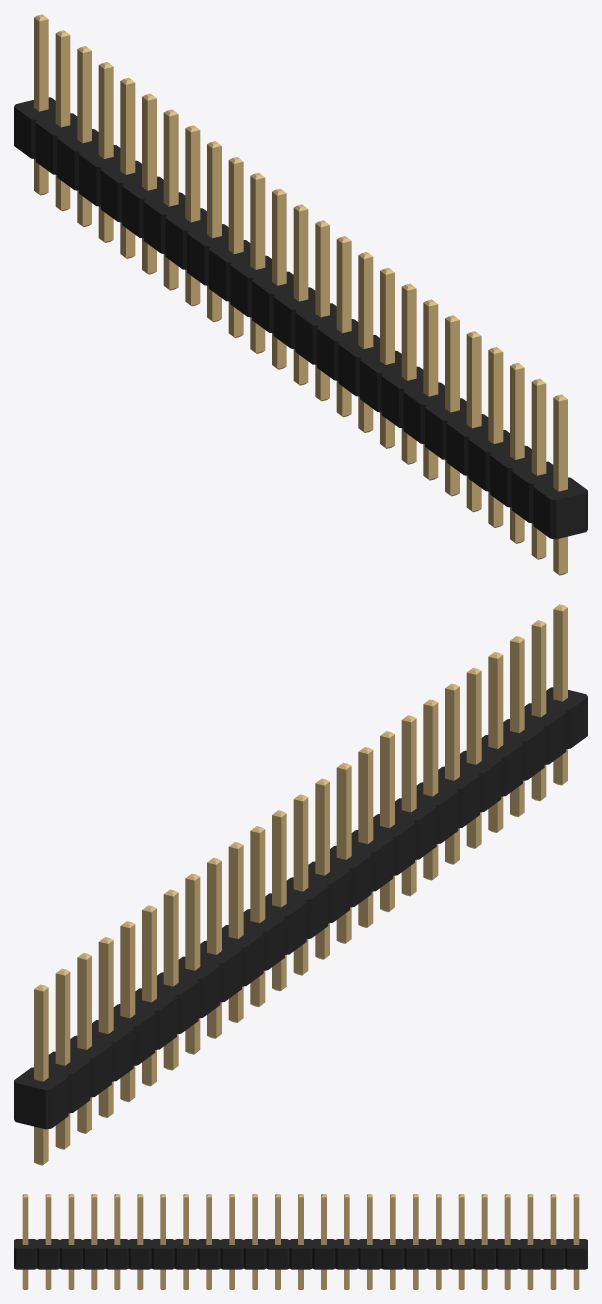
The model's file is kc-pinheader_1x25_p2.54mm_vertical.glb.
3 views of the same model, one above another, from view 1: azimuth 30°, elevation 25°; view 2: azimuth 150°, elevation 25°; view 3: azimuth 270°, elevation 25° (orthographic). The views are drawn at different scales.
Visible parts, largest first — view 1: 0.75_0.5_0.25_0.9, 0_0_0_0; view 2: 0.75_0.5_0.25_0.9, 0_0_0_0; view 3: 0_0_0_0, 0.75_0.5_0.25_0.9.
Part boxes in pixels (x1=…): 0.75_0.5_0.25_0.9: x1=34, y1=14, x2=567, y2=575; 0_0_0_0: x1=14, y1=97, x2=587, y2=539; 0.75_0.5_0.25_0.9: x1=34, y1=604, x2=567, y2=1165; 0_0_0_0: x1=14, y1=687, x2=587, y2=1129; 0_0_0_0: x1=14, y1=1239, x2=587, y2=1269; 0.75_0.5_0.25_0.9: x1=22, y1=1194, x2=579, y2=1289.
Bounding box in the file's own units: 0.2543 × 1.15 × 6.35.
